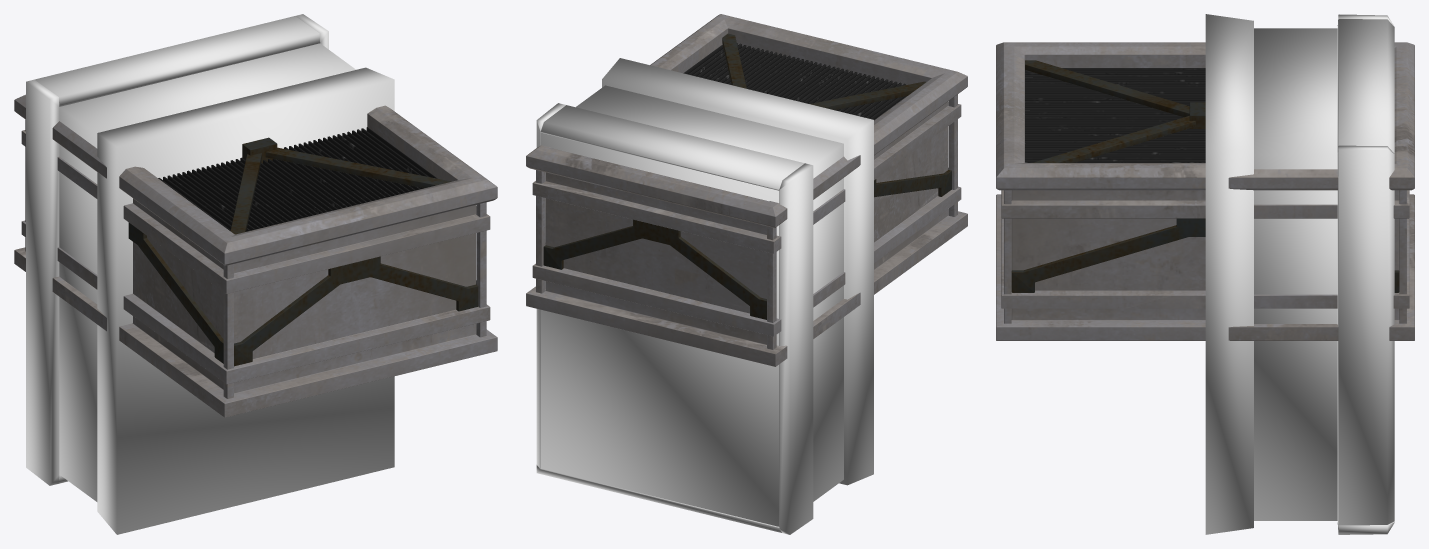
Rendered from SM_Roof_Box.fbx.
3 views of the same model, side by side, from view 1: azimuth 30°, elevation 25°; view 2: azimuth 150°, elevation 25°; view 3: azimuth 270°, elevation 25° (orthographic). The views are drawn at different scales.
Parts seen in each view (by area): view 1: SM_Roof_Box_ConvexHulls, SM_Roof_Box; view 2: SM_Roof_Box_ConvexHulls, SM_Roof_Box; view 3: SM_Roof_Box_ConvexHulls, SM_Roof_Box.
Part boxes in pixels (x1,y1,x2,y2): SM_Roof_Box_ConvexHulls: (26, 14, 394, 534); SM_Roof_Box: (14, 94, 497, 417); SM_Roof_Box_ConvexHulls: (536, 58, 873, 534); SM_Roof_Box: (526, 14, 967, 366); SM_Roof_Box_ConvexHulls: (1205, 14, 1394, 534); SM_Roof_Box: (996, 42, 1414, 340).
Bounding box in the file's own units: 3.06 × 4.07 × 4.
